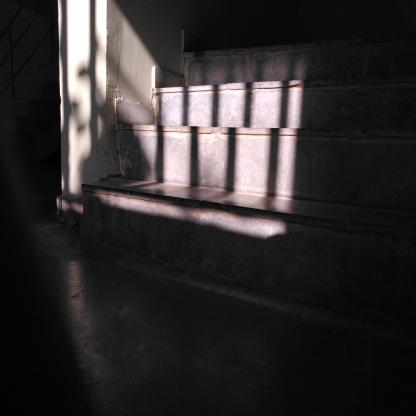stairs: (185, 45, 416, 297)
